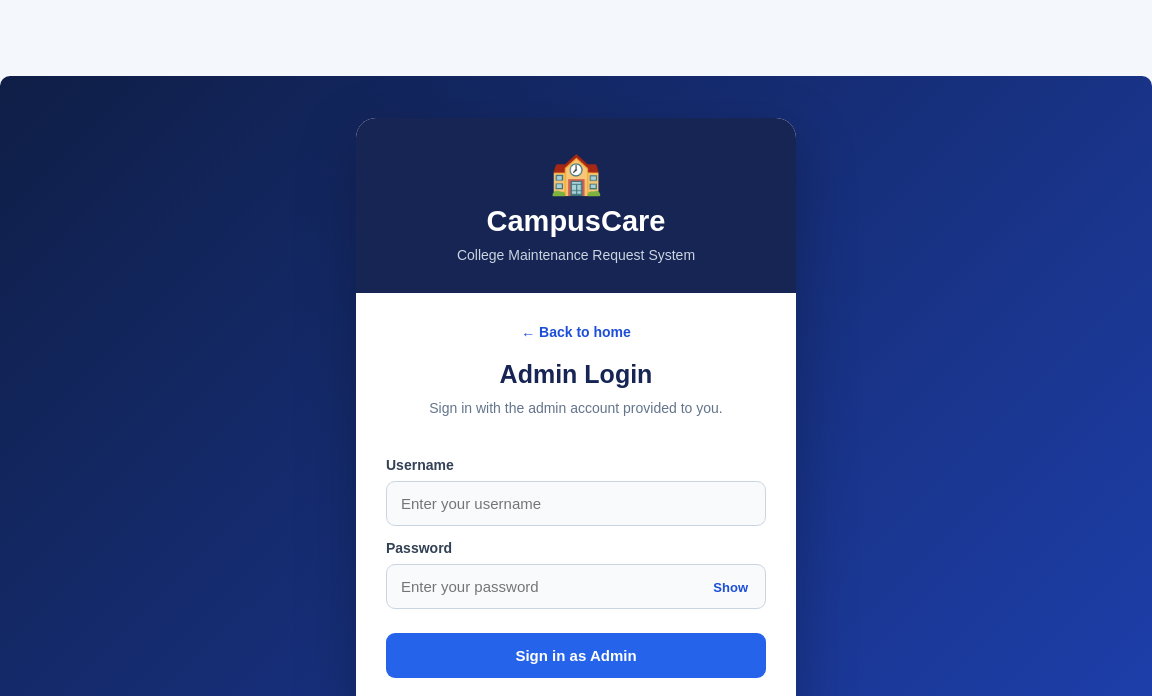
it: a backend role mismatch does not store authentication or open a dashboard
Type "student1" into the field labelled "Username" at (576, 504), box [386,481,766,526]
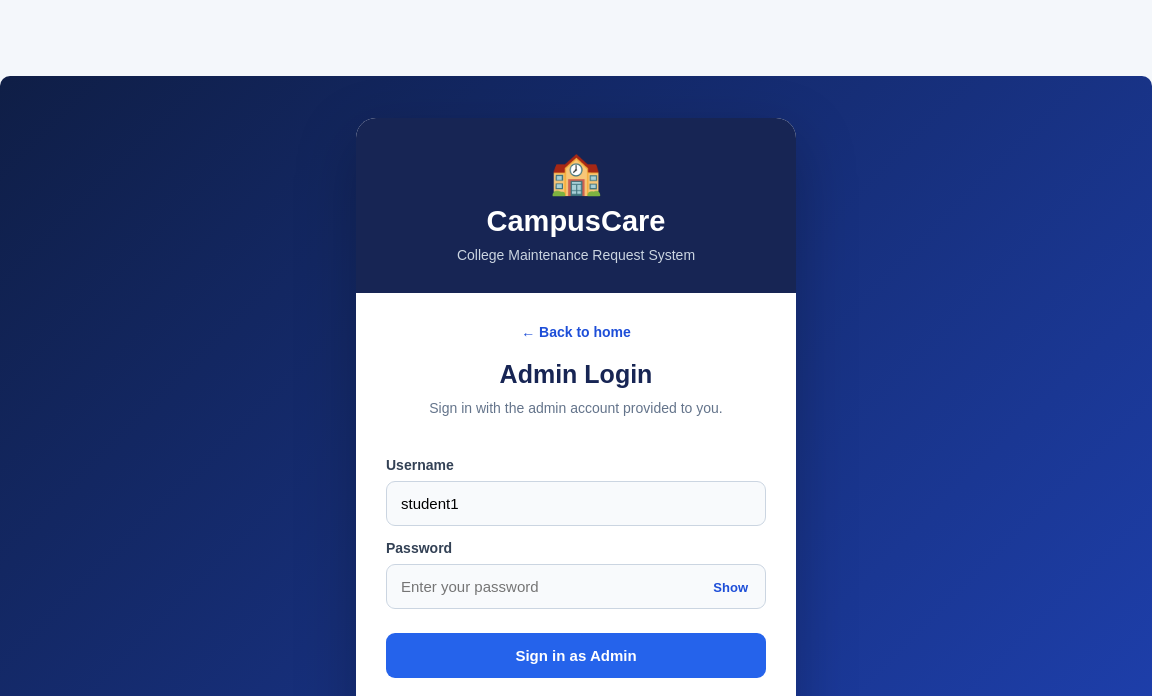
Type "password123" into the password field labelled "Password" at (576, 587), box [386,564,766,609]
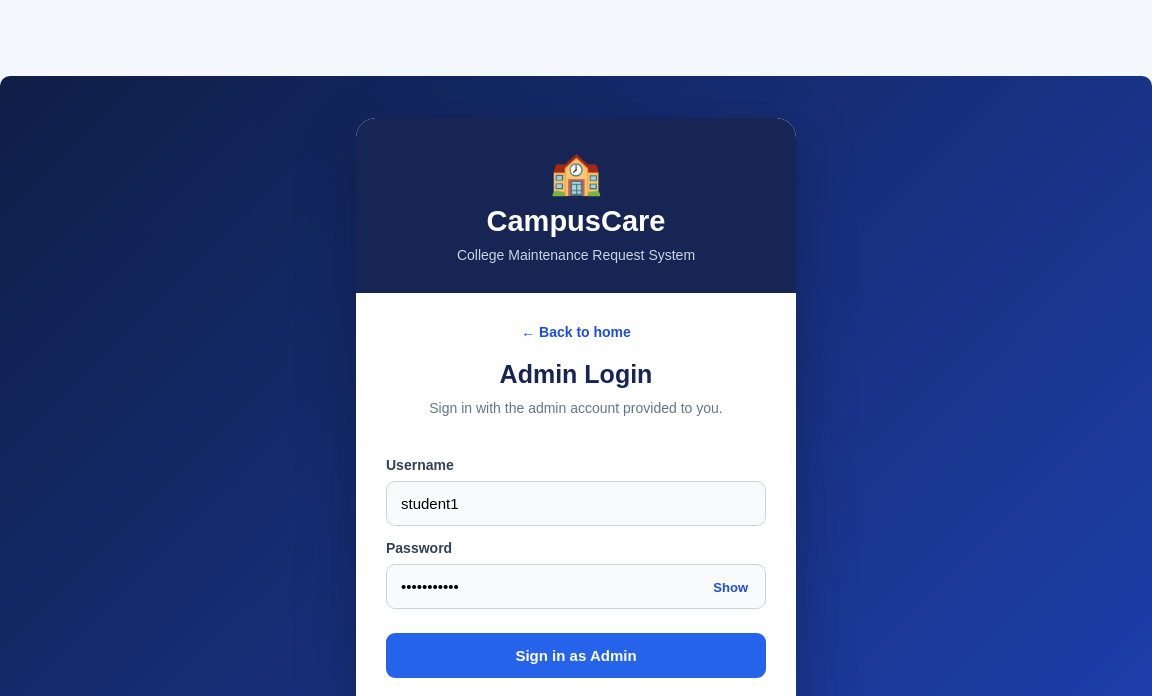
Click the button "Sign in as Admin" at (576, 656), box [386,633,766,678]
(page scrolled)
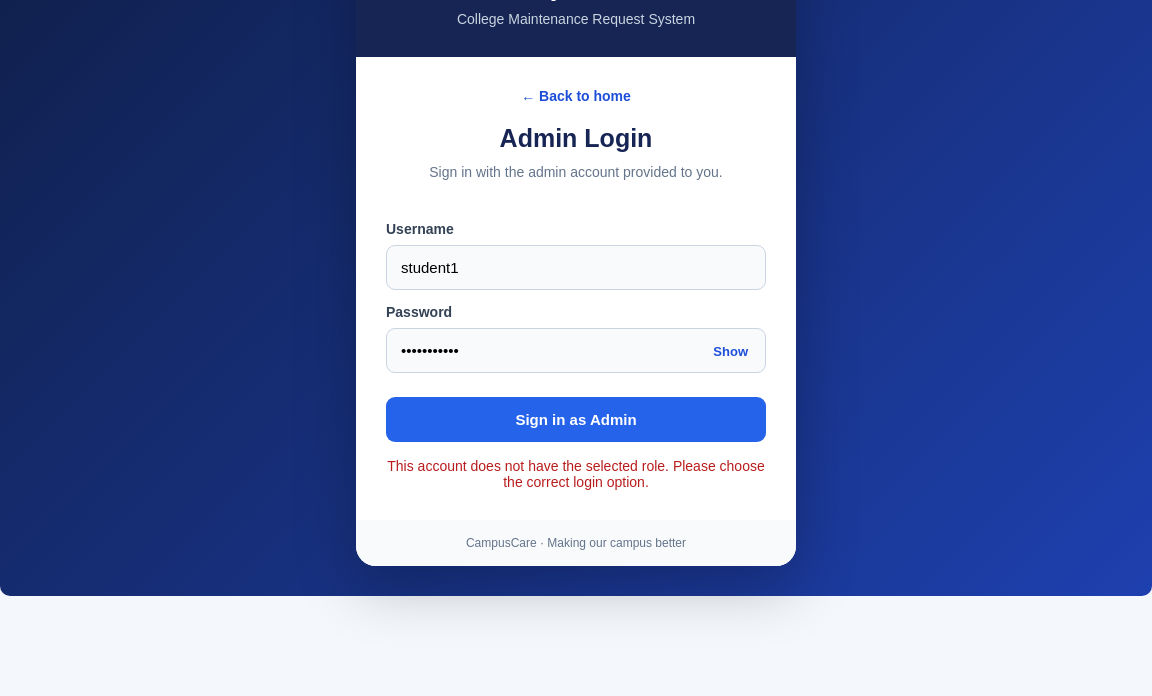
Result: the message shows "This account does not have the selected role. Please choose the correct login option." at [387,458,765,490]
